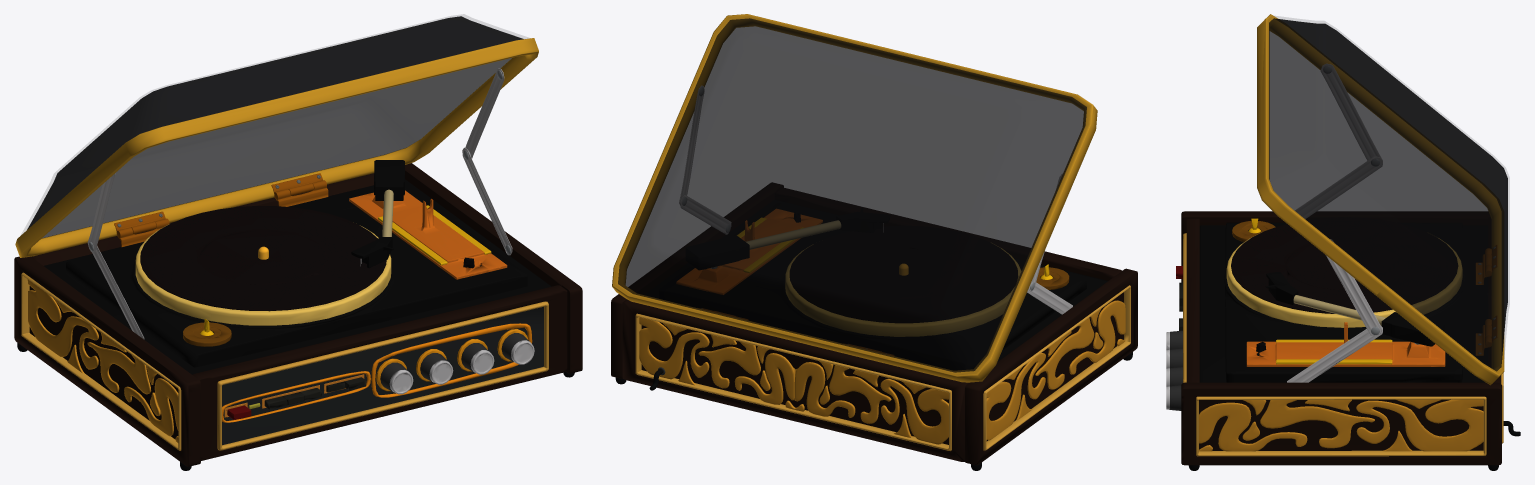
File: old_recordplayer.glb
3 renders of one model, left to right at view 1: azimuth 30°, elevation 25°; view 2: azimuth 150°, elevation 25°; view 3: azimuth 270°, elevation 25°, orthographic. The views are drawn at different scales.
Visible parts, largest first — view 1: polySurface90_buttons_0, polySurface162_lambert1_0, polySurface89_needle_plate_0, polySurface88_plate_0, polySurface124_recordplate_base_0, polySurface170_side_detail_0, polySurface97_turning_base_0, polySurface109_turning_nob_0, polySurface137_needle_base_piece_0, polySurface107_front_piece_needle_0, polySurface161_glass_0; view 2: polySurface162_lambert1_0, polySurface90_buttons_0, polySurface88_plate_0, polySurface170_side_detail_0, polySurface89_needle_plate_0, polySurface124_recordplate_base_0, polySurface97_turning_base_0, polySurface137_needle_base_piece_0, polySurface107_front_piece_needle_0; view 3: polySurface162_lambert1_0, polySurface90_buttons_0, polySurface89_needle_plate_0, polySurface88_plate_0, polySurface170_side_detail_0, polySurface124_recordplate_base_0, polySurface97_turning_base_0, polySurface109_turning_nob_0, polySurface137_needle_base_piece_0, polySurface107_front_piece_needle_0, polySurface161_glass_0.
Part boxes in pixels (x1,y1,x2,y2): polySurface90_buttons_0: (14, 38, 582, 466); polySurface162_lambert1_0: (27, 16, 523, 238); polySurface89_needle_plate_0: (17, 68, 574, 470); polySurface88_plate_0: (140, 206, 386, 311); polySurface124_recordplate_base_0: (66, 185, 527, 367); polySurface170_side_detail_0: (27, 279, 178, 442); polySurface97_turning_base_0: (135, 224, 391, 325); polySurface109_turning_nob_0: (380, 333, 529, 391); polySurface137_needle_base_piece_0: (374, 160, 404, 200); polySurface107_front_piece_needle_0: (351, 237, 393, 268); polySurface161_glass_0: (22, 14, 527, 233); polySurface162_lambert1_0: (618, 18, 1086, 372); polySurface90_buttons_0: (611, 14, 1137, 465); polySurface88_plate_0: (790, 226, 1017, 322); polySurface170_side_detail_0: (639, 300, 1125, 444); polySurface89_needle_plate_0: (615, 86, 1132, 470); polySurface124_recordplate_base_0: (659, 203, 1086, 370); polySurface97_turning_base_0: (785, 248, 1020, 336); polySurface137_needle_base_piece_0: (686, 236, 749, 269); polySurface107_front_piece_needle_0: (836, 208, 889, 232); polySurface162_lambert1_0: (1269, 18, 1507, 371); polySurface90_buttons_0: (1176, 14, 1504, 465); polySurface89_needle_plate_0: (1166, 64, 1520, 470); polySurface88_plate_0: (1231, 217, 1457, 313); polySurface170_side_detail_0: (1199, 399, 1483, 451); polySurface124_recordplate_base_0: (1223, 222, 1465, 382); polySurface97_turning_base_0: (1226, 232, 1462, 327); polySurface109_turning_nob_0: (1170, 330, 1182, 410); polySurface137_needle_base_piece_0: (1381, 312, 1444, 346); polySurface107_front_piece_needle_0: (1265, 272, 1298, 304); polySurface161_glass_0: (1275, 16, 1509, 353).
Size of the model in its own units: 0.6433 by 0.4859 by 0.5267.
Materials: 12 (6 with a texture image).
